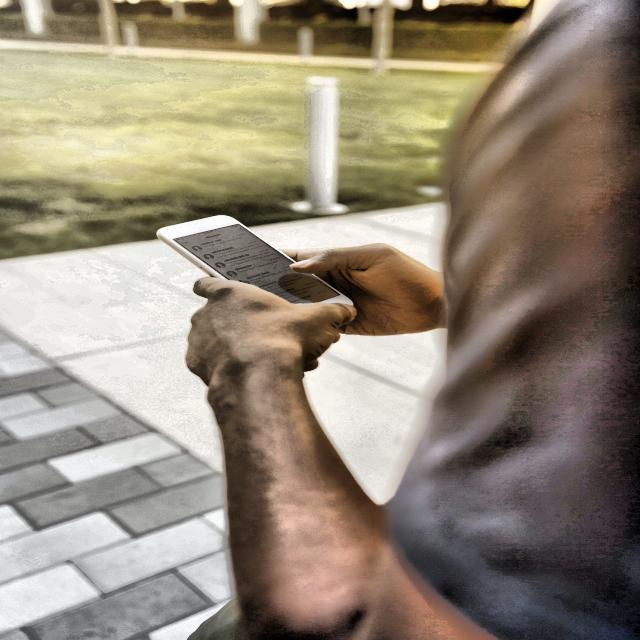Phone: (154, 214, 356, 310)
